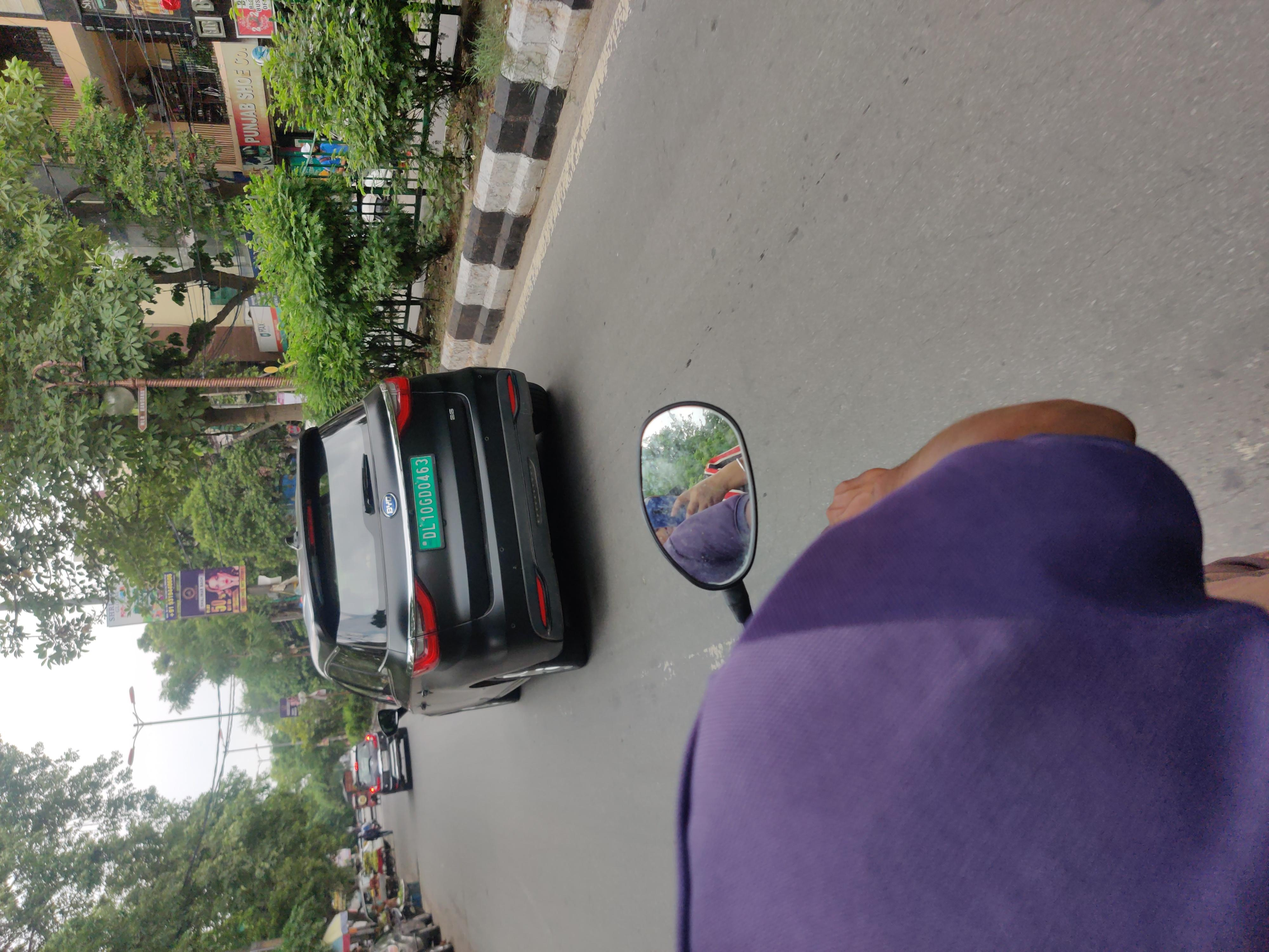green license plate: (530, 307, 678, 332)
